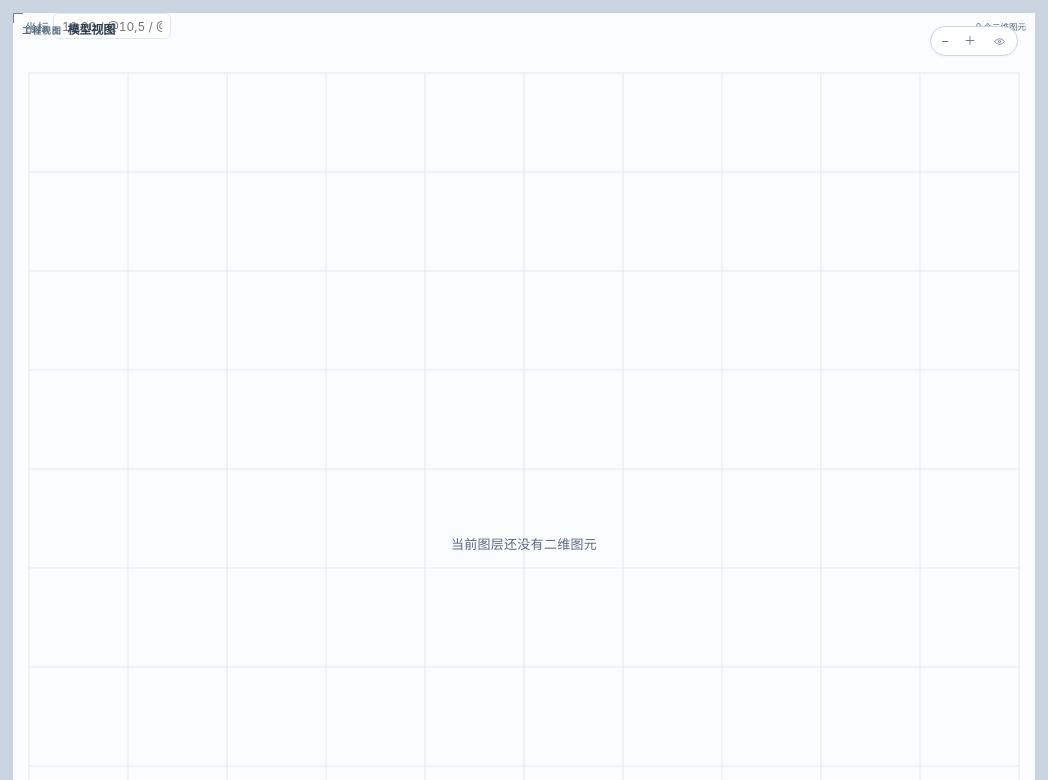
it: drawing viewport › explains a bad coordinate instead of placing a wrong point
The image size is (1048, 780).
Type "abc" into the field named "坐标输入" at (112, 26), box 53,13 -> 171,39
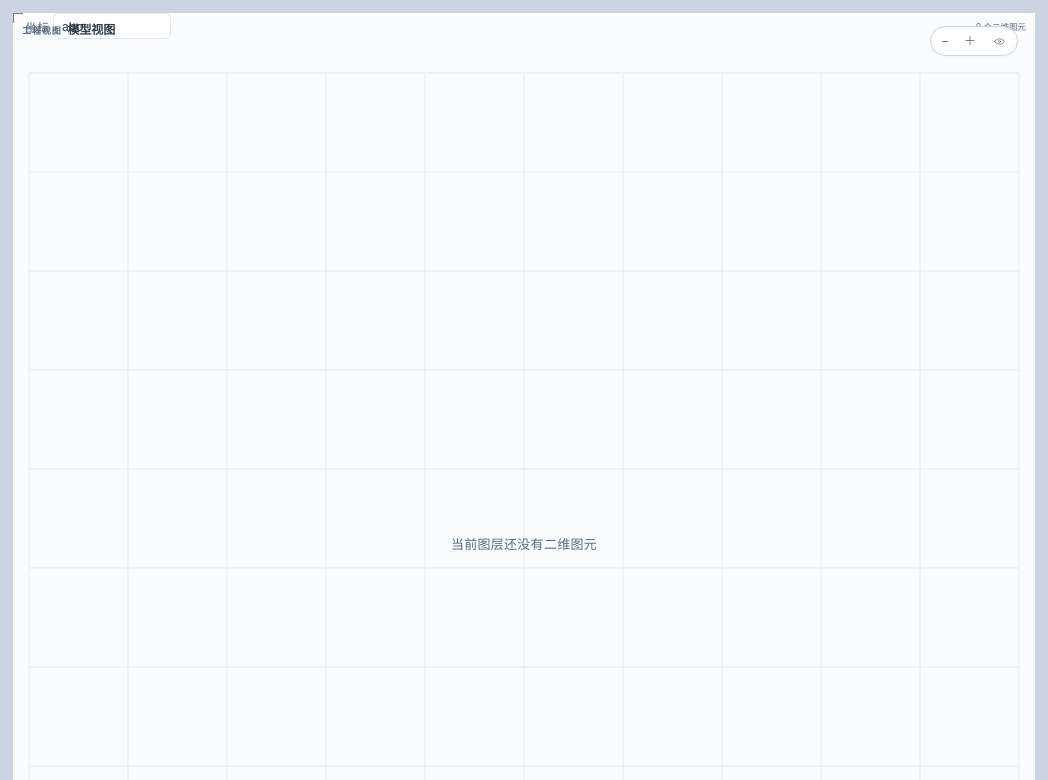
Press Enter in the field named "坐标输入", box 53,13 -> 171,39
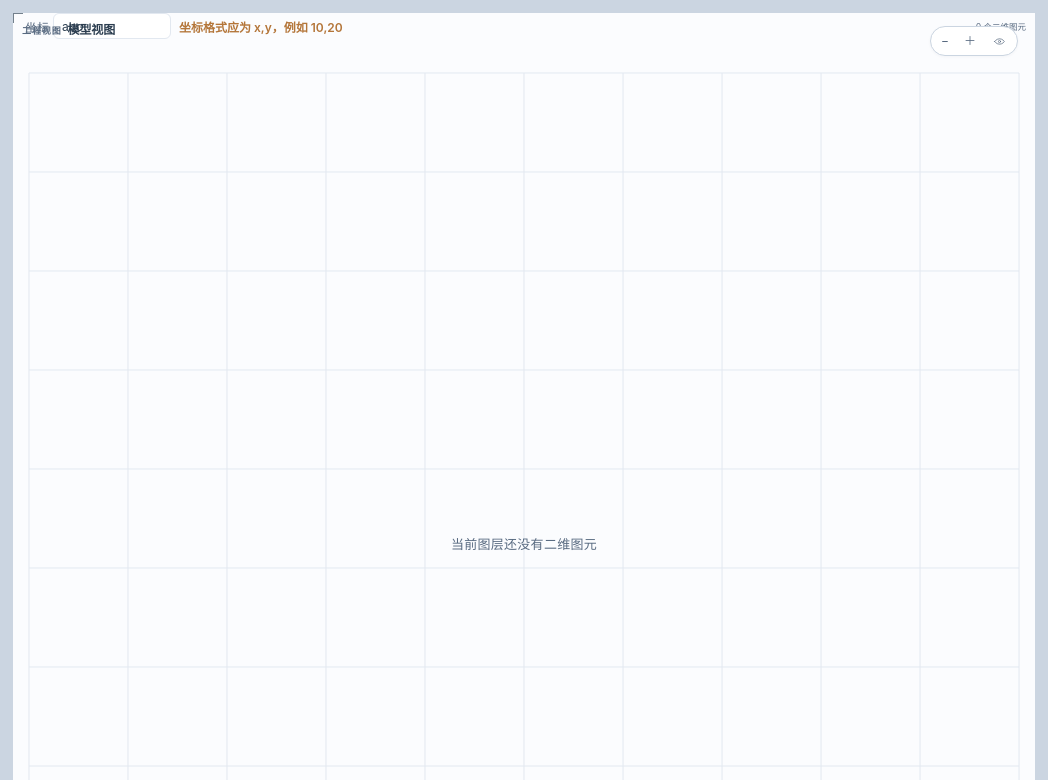
Result: the message "坐标格式应为 x,y，例如 10,20" is shown at 179,18 -> 343,34
